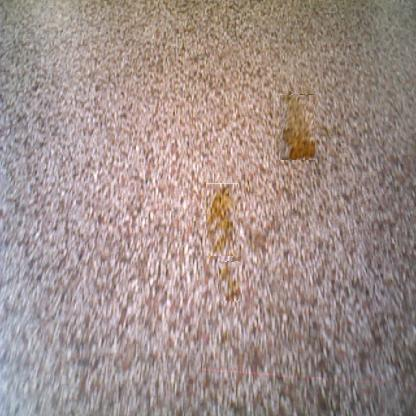liquid: (280, 94, 315, 160), (207, 183, 238, 256), (218, 261, 242, 301)
